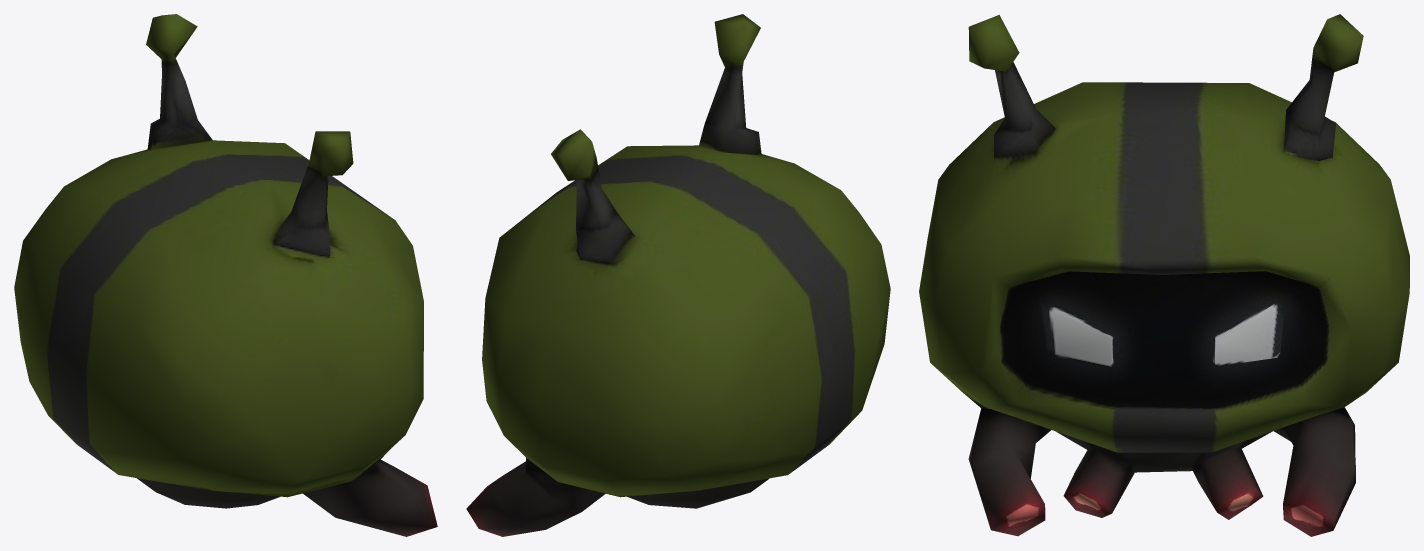
File: invader.glb
3 views of the same model, side by side, from view 1: azimuth 30°, elevation 25°; view 2: azimuth 150°, elevation 25°; view 3: azimuth 270°, elevation 25° (orthographic). The views are drawn at different scales.
Visible parts, largest first — view 1: tripo_node_9eeb0275-5bc4-4d6e-ac54-14ee6d903202; view 2: tripo_node_9eeb0275-5bc4-4d6e-ac54-14ee6d903202; view 3: tripo_node_9eeb0275-5bc4-4d6e-ac54-14ee6d903202.
Boxes of the visible parts, bbox=[...] form: tripo_node_9eeb0275-5bc4-4d6e-ac54-14ee6d903202: bbox=[14, 14, 437, 536]; tripo_node_9eeb0275-5bc4-4d6e-ac54-14ee6d903202: bbox=[466, 14, 890, 536]; tripo_node_9eeb0275-5bc4-4d6e-ac54-14ee6d903202: bbox=[919, 14, 1409, 536].
Bounding box in the file's own units: 0.7208 × 0.9803 × 0.9234.
1 material, 1 textured.
